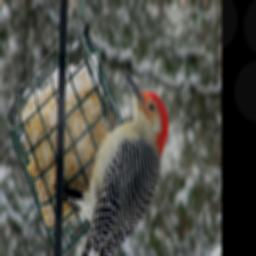Woodpecker: (59, 78, 169, 256)
